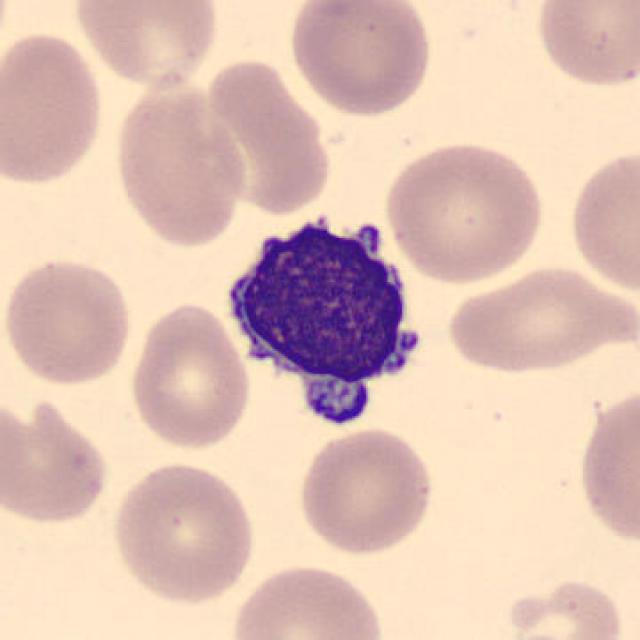Lymphocyte: (213, 203, 434, 437)
RBC: (380, 136, 548, 287), (110, 69, 249, 250), (106, 458, 258, 608), (197, 53, 336, 217), (443, 261, 633, 377), (124, 300, 254, 453), (294, 423, 438, 559), (0, 252, 137, 388), (284, 0, 436, 120), (0, 28, 107, 189), (0, 391, 112, 529), (71, 0, 224, 90), (228, 559, 390, 640), (564, 143, 638, 298), (572, 381, 640, 548), (530, 0, 640, 92), (500, 573, 628, 640)
